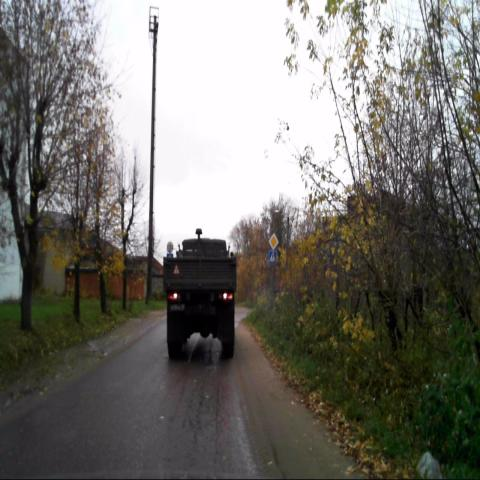2_1: (268, 232, 279, 251)
5_19_1: (268, 249, 277, 264)
